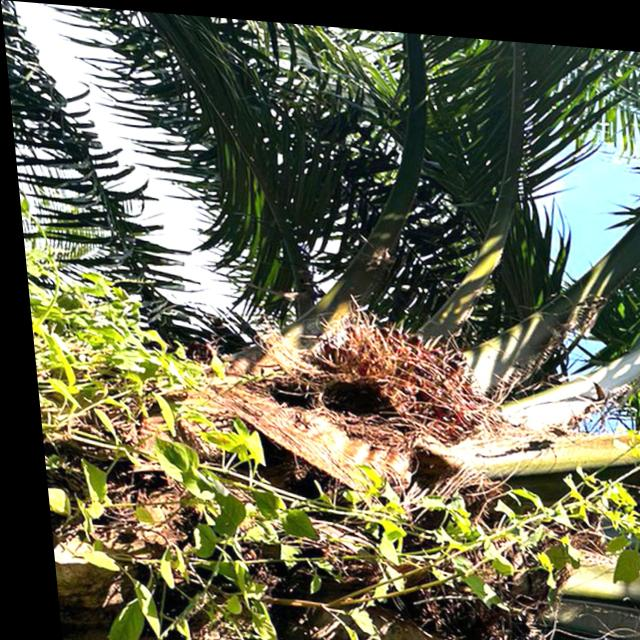almost: (316, 303, 496, 458)
